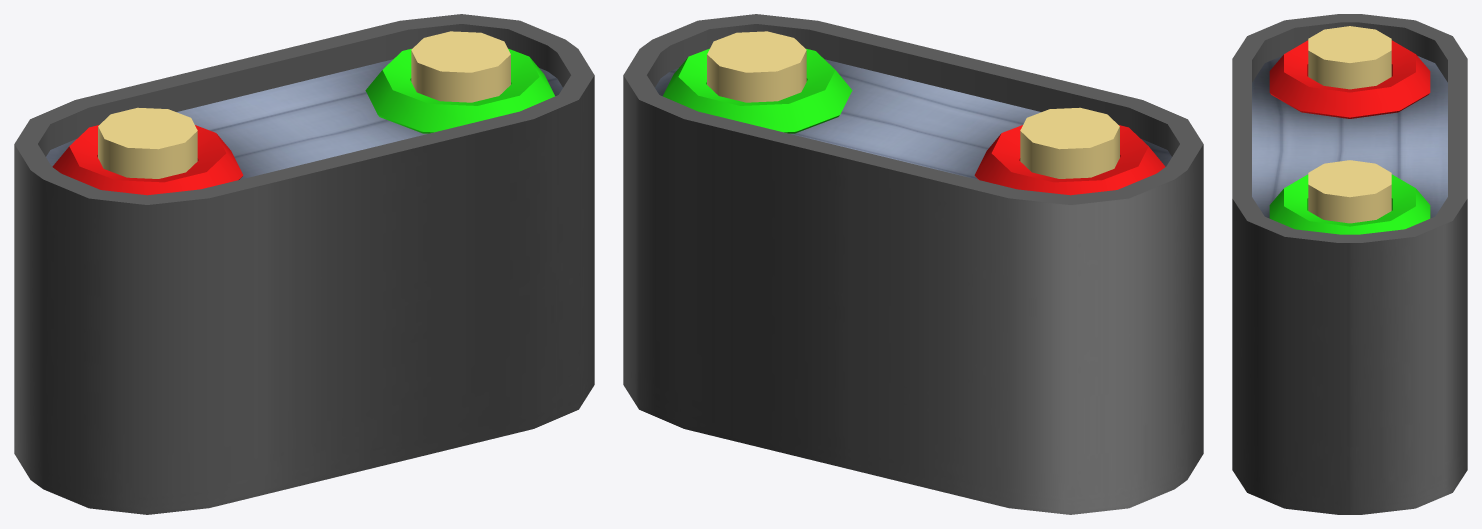
File: static.glb
3 renders of one model, left to right at view 1: azimuth 30°, elevation 25°; view 2: azimuth 150°, elevation 25°; view 3: azimuth 270°, elevation 25°, orthographic. The views are drawn at different scales.
Parts seen in each view (by area): view 1: Sweep, Plane, Torus, Cylinder, Cylinder_2, Torus_2; view 2: Sweep, Plane, Torus, Cylinder, Cylinder_2, Torus_2; view 3: Sweep, Plane, Torus_2, Cylinder, Cylinder_2, Torus.
Part boxes in pixels (x1,y1,x2,y2): Sweep: [14, 14, 594, 514]; Plane: [46, 59, 562, 179]; Torus: [365, 48, 554, 133]; Cylinder: [411, 31, 510, 102]; Cylinder_2: [98, 107, 197, 178]; Torus_2: [52, 125, 243, 195]; Sweep: [623, 14, 1203, 514]; Plane: [655, 59, 1171, 179]; Torus: [663, 48, 852, 133]; Cylinder: [707, 31, 806, 102]; Cylinder_2: [1020, 107, 1119, 178]; Torus_2: [974, 125, 1165, 195]; Sweep: [1232, 14, 1467, 514]; Plane: [1252, 56, 1447, 218]; Torus_2: [1269, 40, 1430, 118]; Cylinder: [1308, 160, 1391, 223]; Cylinder_2: [1308, 26, 1391, 89]; Torus: [1269, 174, 1430, 234].
Bounding box in the file's own units: 0.8843 × 0.5198 × 0.3843.
Materials: 6 (6 with a texture image).
